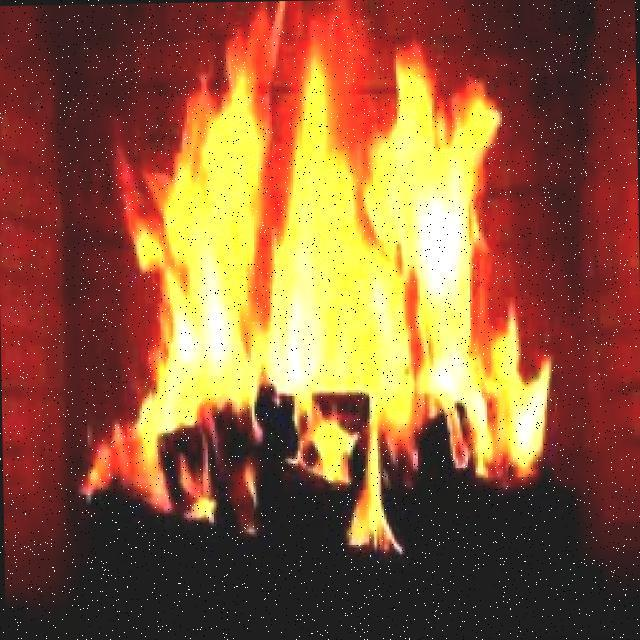Fire: (124, 60, 545, 489)
